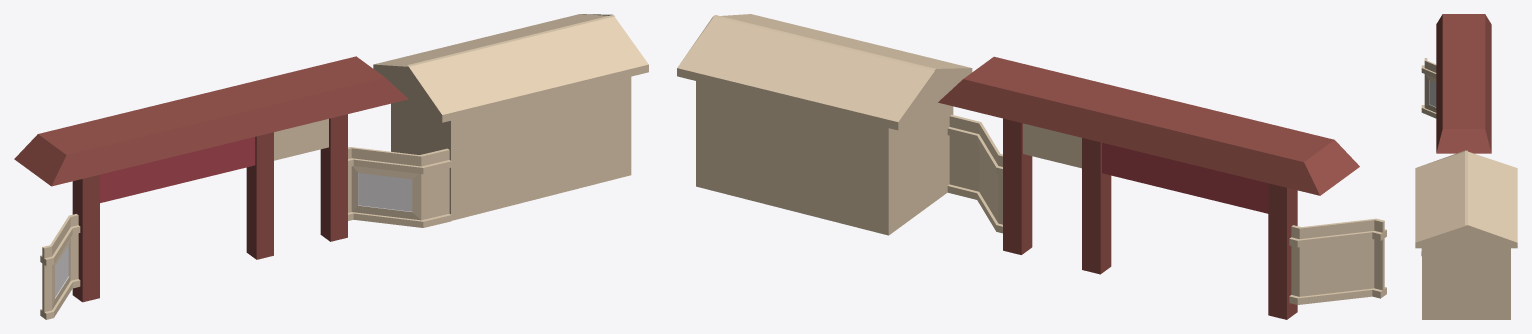
File: truong_thpt_NguyenHue.fbx
The picture shows the model from 3 angles, left to right: view 1: azimuth 30°, elevation 25°; view 2: azimuth 150°, elevation 25°; view 3: azimuth 270°, elevation 25°; orthographic projection. The views are drawn at different scales.
Parts seen in each view (by area): view 1: Truong THPT Nguyen Hue; view 2: Truong THPT Nguyen Hue; view 3: Truong THPT Nguyen Hue.
Part boxes in pixels (bbox=[...]): Truong THPT Nguyen Hue: bbox=[14, 14, 648, 319]; Truong THPT Nguyen Hue: bbox=[677, 14, 1386, 319]; Truong THPT Nguyen Hue: bbox=[1415, 14, 1517, 319].
Bounding box in the file's own units: 771 × 197 × 154.
1 material, 1 textured.
